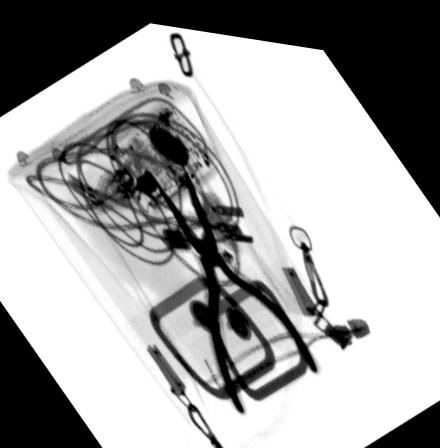Pliers: (146, 161, 320, 410)
